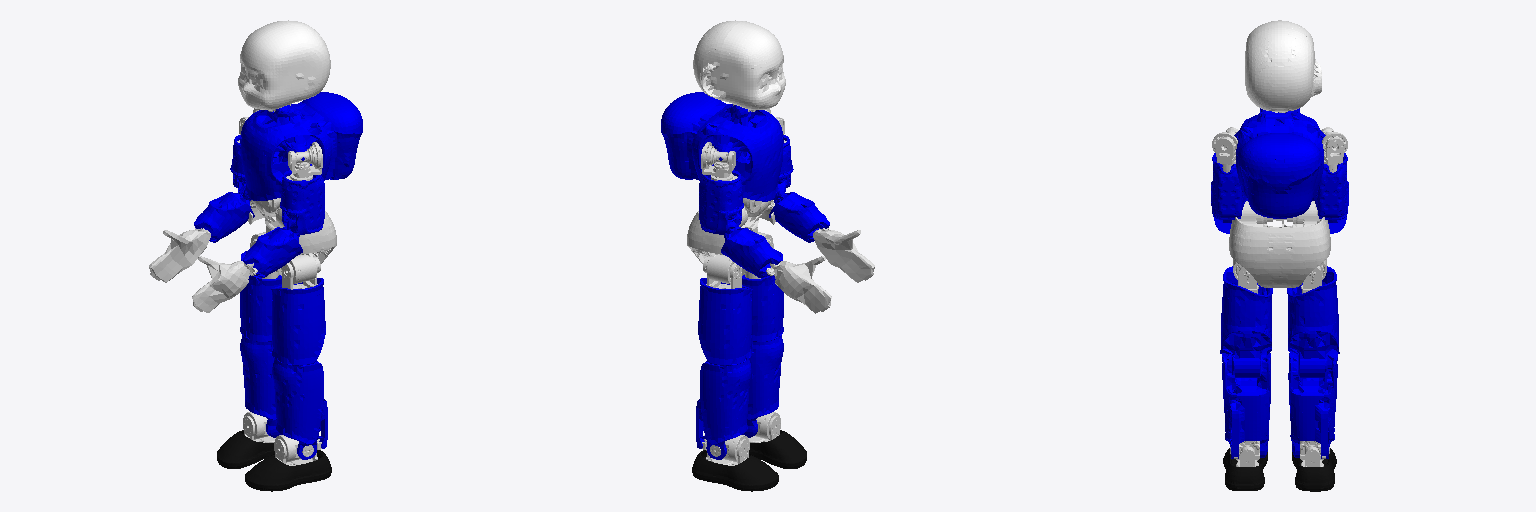
--- Render facts (derived) ---
Views: 3 orthographic renders of the robot side by side, from view 1: azimuth 30°, elevation 25°; view 2: azimuth 150°, elevation 25°; view 3: azimuth 270°, elevation 25°.
Robot: iCub — 54 links, 53 joints (32 revolute, 21 fixed); root link dummy; default pose: all joints at 0 but 2 set to mid-range because 0 is outside their limits (r_elbow = 1.06, l_elbow = 1.06).
Links seen in each view (by area): view 1: chest, head, l_lower_leg, l_upper_leg, r_lower_leg, l_upper_arm, l_foot, r_upper_leg, l_hand, r_hand, l_forearm, r_forearm (+4 smaller); view 2: chest, head, r_lower_leg, r_upper_leg, l_lower_leg, r_upper_arm, r_foot, l_upper_leg, r_hand, r_forearm, l_hand, l_forearm (+4 smaller); view 3: chest, root_link, head, l_upper_leg, r_upper_leg, l_lower_leg, r_lower_leg, r_upper_arm, l_upper_arm, r_foot, l_foot, l_shoulder_2 (+1 smaller).
Link boxes in pixels (x1,y1,x2,y2): chest: (240, 92, 362, 200); head: (238, 20, 330, 109); l_lower_leg: (272, 359, 327, 459); l_upper_leg: (271, 278, 325, 365); r_lower_leg: (240, 335, 281, 437); l_upper_arm: (280, 170, 324, 234); l_foot: (245, 450, 331, 491); r_upper_leg: (240, 251, 281, 341); l_hand: (192, 256, 249, 312); r_hand: (149, 230, 210, 282); l_forearm: (243, 227, 302, 277); r_forearm: (194, 192, 254, 242); chest: (661, 92, 783, 201); head: (693, 20, 785, 109); r_lower_leg: (696, 359, 751, 459); r_upper_leg: (698, 278, 752, 365); l_lower_leg: (742, 335, 783, 437); r_upper_arm: (699, 170, 743, 234); r_foot: (692, 450, 778, 491); l_upper_leg: (742, 250, 783, 341); r_hand: (774, 256, 831, 313); r_forearm: (721, 227, 780, 277); l_hand: (813, 229, 874, 282); l_forearm: (769, 192, 829, 242); chest: (1234, 108, 1325, 218); root_link: (1229, 201, 1330, 287); head: (1245, 20, 1321, 111); l_upper_leg: (1220, 266, 1272, 377); r_upper_leg: (1287, 266, 1339, 377); l_lower_leg: (1222, 352, 1270, 458); r_lower_leg: (1288, 352, 1337, 458); r_upper_arm: (1312, 153, 1348, 219); l_upper_arm: (1211, 153, 1247, 219); r_foot: (1292, 448, 1336, 491); l_foot: (1223, 448, 1267, 490); l_shoulder_2: (1212, 127, 1238, 164).
Size in the robot's own frame: 0.4797 by 0.2988 by 1.08 metres.
39 mesh visuals loaded from 39 distinct referenced files (39 OBJ).

The robot description file, URDF, robot "iCub":
<robot name="iCub">
  <link name="dummy">
      <inertial>
      <mass value="0"/>
      <inertia ixx="0.0" ixy="0.0" ixz="0.0" iyy="0.0" iyz="0.0" izz="0.0"/>
    </inertial>
  </link>
  <link name="root_link">
    <inertial>
      <origin xyz="0.02488209999999999 0.00010394699999999017 -0.04408060000000001" rpy="1.5707963267948961 0 -1.5707963267948961"/>
      <mass value="5.09143"/>
      <inertia ixx="0.0139679" ixy="-5.93488e-06" ixz="-1.55458e-05" iyy="0.0202112" iyz="-0.00170968" izz="0.0249124"/>
    </inertial>
    <visual>
      <origin xyz="-0.036399999999999995 0 0.032" rpy="1.5707963267948961 0 -1.5707963267948961"/>
      <geometry>
        <mesh filename="package://iCub/meshes/visual/sim_sea_2-5_root_link_prt-binary.obj" scale="0.001 0.001 0.001"/>
      </geometry>
      <material name="root_link_color">
        <color rgba="0.9 0.9 0.9 1"/>
      </material>
    </visual>
    <collision>
      <origin xyz="-0.036399999999999995 0 0.032" rpy="1.5707963267948961 0 -1.5707963267948961"/>
      <geometry>
        <mesh filename="package://iCub/meshes/visual/sim_sea_2-5_root_link_prt-binary.obj" scale="0.001 0.001 0.001"/>
      </geometry>
    </collision>
  </link>
  <joint name="dummy_joint" type="fixed">
    <parent link="dummy"/>
    <child link="root_link"/>
  </joint>
  <link name="r_hip_1">
    <inertial>
      <origin xyz="-0.0005145000000000149 -0.038075299999999986 -7.099999999998774e-05" rpy="1.5707963267948961 0 1.5707963267948961"/>
      <mass value="0.919978"/>
      <inertia ixx="0.000404268" ixy="-1.26852e-06" ixz="1.11055e-06" iyy="0.000574741" iyz="-7.69474e-07" izz="0.000580025"/>
    </inertial>
    <visual>
      <origin xyz="0.04285150000011213 0.025999999999999232 0.1519129999999679" rpy="1.5707963267948961 0 1.5707963267948961"/>
      <geometry>
        <mesh filename="package://iCub/meshes/visual/sim_sea_2-5_r_hip_1_prt-binary.obj" scale="0.001 0.001 0.001"/>
      </geometry>
      <material name="r_hip_1_color">
        <color rgba="0.9 0.9 0.9 1"/>
      </material>
    </visual>
    <collision>
      <origin xyz="0.04285150000011213 0.025999999999999232 0.1519129999999679" rpy="1.5707963267948961 0 1.5707963267948961"/>
      <geometry>
        <mesh filename="package://iCub/meshes/visual/sim_sea_2-5_r_hip_1_prt-binary.obj" scale="0.001 0.001 0.001"/>
      </geometry>
    </collision>
  </link>
  <joint name="r_hip_pitch" type="revolute">
    <origin xyz="0.006451499999999992 0.025999999999999968 -0.11991299999999999" rpy="0 0 -3.141592653589793"/>
    <axis xyz="-2.220446049250313e-16 -0.9999999999999998 0.0"/>
    <parent link="root_link"/>
    <child link="r_hip_1"/>
    <limit effort="55.5" lower="-0.7853981633974483" upper="2.3387411976724017" velocity="5.1"/>
    <dynamics damping="1.0" friction="0.0"/>
  </joint>
  <link name="r_hip_2">
    <inertial>
      <origin xyz="-0.0009315000000000018 8.09999999998312e-06 -0.04480899999999996" rpy="1.5707963267948961 0 1.5707963267948961"/>
      <mass value="0.413242"/>
      <inertia ixx="0.00046914" ixy="-4.76597e-08" ixz="7.12496e-08" iyy="0.000277108" iyz="3.3401e-06" izz="0.000303891"/>
    </inertial>
    <visual>
      <origin xyz="0.04285149980937101 0.07010000000000424 0.15191299999996632" rpy="1.5707963267948961 0 1.5707963267948961"/>
      <geometry>
        <mesh filename="package://iCub/meshes/visual/sim_sea_2-5_r_hip_2_prt-binary.obj" scale="0.001 0.001 0.001"/>
      </geometry>
      <material name="r_hip_2_color">
        <color rgba="0.9 0.9 0.9 1"/>
      </material>
    </visual>
    <collision>
      <origin xyz="0.04285149980937101 0.07010000000000424 0.15191299999996632" rpy="1.5707963267948961 0 1.5707963267948961"/>
      <geometry>
        <mesh filename="package://iCub/meshes/visual/sim_sea_2-5_r_hip_2_prt-binary.obj" scale="0.001 0.001 0.001"/>
      </geometry>
    </collision>
  </link>
  <joint name="r_hip_roll" type="revolute">
    <origin xyz="0 -0.04409999999999998 0" rpy="0 0 0"/>
    <axis xyz="-0.9999999999999998 0.0 -2.220446049250313e-16"/>
    <parent link="r_hip_1"/>
    <child link="r_hip_2"/>
    <limit effort="37.0" lower="-0.3490658503988659" upper="2.0943951023931953" velocity="7.64"/>
    <dynamics damping="1.0" friction="0.0"/>
  </joint>
  <link name="r_hip_3">
    <inertial>
      <origin xyz="-0.00012300000000000505 -0.0002822999999999992 0.008718000000000031" rpy="-1.5707963267948961 0 -1.5707963267948961"/>
      <mass value="0.126212"/>
      <inertia ixx="0.01" ixy="2.67901e-07" ixz="-4.41463e-09" iyy="0.01" iyz="3.32338e-08" izz="0.01"/>
    </inertial>
    <visual>
      <origin xyz="0.0437090152 -0.07009999189999992 -0.22621299999996644" rpy="-1.5707963267948961 0 -1.5707963267948961"/>
      <geometry>
        <mesh filename="package://iCub/meshes/visual/sim_sea_2-5_r_upper_thigh_prt-binary.obj" scale="0.001 0.001 0.001"/>
      </geometry>
      <material name="r_hip_3_color">
        <color rgba="0.0 0.0 1.0 1"/>
      </material>
    </visual>
    <collision>
      <origin xyz="0.0437090152 -0.07009999189999992 -0.22621299999996644" rpy="-1.5707963267948961 0 -1.5707963267948961"/>
      <geometry>
        <mesh filename="package://iCub/meshes/visual/sim_sea_2-5_r_upper_thigh_prt-binary.obj" scale="0.001 0.001 0.001"/>
      </geometry>
    </collision>
  </link>
  <joint name="r_leg_ft_sensor" type="fixed">
    <origin xyz="-0.0009362999999999941 1.3899999999969492e-05 -0.07429999999999995" rpy="3.141592653589793 0 0"/>
    <parent link="r_hip_2"/>
    <child link="r_hip_3"/>
    <dynamics damping="0.1"/>
  </joint>
  <link name="r_upper_leg">
    <inertial>
      <origin xyz="0.0033999999999999933 -2.9100000000018e-05 -0.078954" rpy="1.5707963267948961 0 1.5707963267948961"/>
      <mass value="1.8035"/>
      <inertia ixx="0.006477514229987116" ixy="0.0001295794295884975" ixz="5.482050947393938e-06" iyy="0.0014593786411035647" iyz="-0.0001366130868747447" izz="0.006467208238130081"/>
    </inertial>
    <visual>
      <origin xyz="0.0437090152 0.07009999190000003 0.24081299999999994" rpy="1.5707963267948961 0 1.5707963267948961"/>
      <geometry>
        <mesh filename="package://iCub/meshes/visual/sim_sea_2-5_r_thigh_prt-binary.obj" scale="0.001 0.001 0.001"/>
      </geometry>
      <material name="r_upper_leg_color">
        <color rgba="0.0 0.0 1.0 1"/>
      </material>
    </visual>
    <collision>
      <origin xyz="0.0437090152 0.07009999190000003 0.24081299999999994" rpy="1.5707963267948961 0 1.5707963267948961"/>
      <geometry>
        <mesh filename="package://iCub/meshes/visual/sim_sea_2-5_r_thigh_prt-binary.obj" scale="0.001 0.001 0.001"/>
      </geometry>
    </collision>
  </link>
  <joint name="r_hip_yaw" type="revolute">
    <origin xyz="0 0 0.014399999999999996" rpy="-3.141592653589793 0 0"/>
    <axis xyz="0.0 -2.220446049250313e-16 -0.9999999999999998"/>
    <parent link="r_hip_3"/>
    <child link="r_upper_leg"/>
    <limit effort="37.0" lower="-1.3962634015954636" upper="1.3962634015954636" velocity="7.64"/>
    <dynamics damping="1.0" friction="0.0"/>
  </joint>
  <link name="r_upper_leg_back_contact">
    <inertial>
      <mass value="0"/>
      <inertia ixx="0.0" ixy="0.0" ixz="0.0" iyy="0.0" iyz="0.0" izz="0.0"/>
    </inertial>
  </link>
  <joint name="r_upper_leg_back_contact_fixed_joint" type="fixed">
    <origin xyz="-0.051199800000000004 0 0.014599999999999946" rpy="0 1.5707963267948963 0"/>
    <parent link="r_upper_leg"/>
    <child link="r_upper_leg_back_contact"/>
    <dynamics damping="0.1"/>
  </joint>
  <link name="r_upper_leg_dh_frame">
    <inertial>
      <mass value="0"/>
      <inertia ixx="0.0" ixy="0.0" ixz="0.0" iyy="0.0" iyz="0.0" izz="0.0"/>
    </inertial>
  </link>
  <joint name="r_upper_leg_dh_frame_fixed_joint" type="fixed">
    <origin xyz="0 0 -0.14582499999999995" rpy="1.5707963267948966 0 0"/>
    <parent link="r_upper_leg"/>
    <child link="r_upper_leg_dh_frame"/>
    <dynamics damping="0.1"/>
  </joint>
  <link name="r_lower_leg">
    <inertial>
      <origin xyz="0.0012363999999999917 -0.003513100000000033 -0.08879400000000004" rpy="1.5707963267948961 0 1.5707963267948961"/>
      <mass value="1.472"/>
      <inertia ixx="0.00423993167477533" ixy="0.00022881454885381036" ixz="-5.556464594531433e-05" iyy="0.0015209504344685463" iyz="-0.0002641329792432387" izz="0.004573585842061655"/>
    </inertial>
    <visual>
      <origin xyz="0.0437090152 0.07009999200000007 0.38663799999999987" rpy="1.5707963267948961 0 1.5707963267948961"/>
      <geometry>
        <mesh filename="package://iCub/meshes/visual/sim_sea_2-5_r_shank_prt-binary.obj" scale="0.001 0.001 0.001"/>
      </geometry>
      <material name="r_lower_leg_color">
        <color rgba="0.0 0.0 1.0 1"/>
      </material>
    </visual>
    <collision>
      <origin xyz="0.0437090152 0.07009999200000007 0.38663799999999987" rpy="1.5707963267948961 0 1.5707963267948961"/>
      <geometry>
        <mesh filename="package://iCub/meshes/visual/sim_sea_2-5_r_shank_prt-binary.obj" scale="0.001 0.001 0.001"/>
      </geometry>
    </collision>
  </link>
  <joint name="r_knee" type="revolute">
    <origin xyz="0 0 -0.14582499999999995" rpy="0 0 0"/>
    <axis xyz="-2.220446049250313e-16 -0.9999999999999998 0.0"/>
    <parent link="r_upper_leg"/>
    <child link="r_lower_leg"/>
    <limit effort="37.0" lower="-2.1642082724729685" upper="0.06981317007977318" velocity="7.64"/>
    <dynamics damping="1.0" friction="0.0"/>
  </joint>
  <link name="r_ankle_1">
    <inertial>
      <origin xyz="0.01514359999999999 -0.000868600000000011 4.199999999998649e-05" rpy="1.5707963267948961 0 1.5707963267948961"/>
      <mass value="0.6803"/>
      <inertia ixx="0.0004046188489317631" ixy="7.498192869450776e-07" ixz="-3.013494676905822e-05" iyy="0.00044863365466369986" iyz="2.5726697409005395e-06" izz="0.00030823593913944066"/>
    </inertial>
    <visual>
      <origin xyz="0.0437090152 0.07009999200000011 0.5871379999999998" rpy="1.5707963267948961 0 1.5707963267948961"/>
      <geometry>
        <mesh filename="package://iCub/meshes/visual/sim_sea_2-5_r_ankle_prt-binary.obj" scale="0.001 0.001 0.001"/>
      </geometry>
      <material name="r_ankle_1_color">
        <color rgba="0.9 0.9 0.9 1"/>
      </material>
    </visual>
    <collision>
      <origin xyz="0.0437090152 0.07009999200000011 0.5871379999999998" rpy="1.5707963267948961 0 1.5707963267948961"/>
      <geometry>
        <mesh filename="package://iCub/meshes/visual/sim_sea_2-5_r_ankle_prt-binary.obj" scale="0.001 0.001 0.001"/>
      </geometry>
    </collision>
  </link>
  <joint name="r_ankle_pitch" type="revolute">
    <origin xyz="0 0 -0.20049999999999996" rpy="0 0 0"/>
    <axis xyz="2.220446049250313e-16 0.9999999999999998 0.0"/>
    <parent link="r_lower_leg"/>
    <child link="r_ankle_1"/>
    <limit effort="37.0" lower="-0.6108652381980153" upper="0.6108652381980153" velocity="7.64"/>
    <dynamics damping="1.0" friction="0.0"/>
  </joint>
  <link name="r_ankle_2">
    <inertial>
      <origin xyz="0.0011445999999999956 3.599999999992498e-06 -0.03852" rpy="1.5707963267948961 0 1.5707963267948961"/>
      <mass value="0.265122"/>
      <inertia ixx="0.01" ixy="-4.74606e-08" ixz="4.94571e-08" iyy="0.01" iyz="-4.29975e-06" izz="0.01"/>
    </inertial>
    <visual>
      <origin xyz="0.043787799618642 0.07008610019070811 0.5871379999999998" rpy="1.5707963267948961 0 1.5707963267948961"/>
      <geometry>
        <mesh filename="package://iCub/meshes/visual/sim_sea_2-5_r_foot_prt-binary.obj" scale="0.001 0.001 0.001"/>
      </geometry>
      <material name="r_ankle_2_color">
        <color rgba="0.9 0.9 0.9 1"/>
      </material>
    </visual>
    <collision>
      <origin xyz="0.043787799618642 0.07008610019070811 0.5871379999999998" rpy="1.5707963267948961 0 1.5707963267948961"/>
      <geometry>
        <mesh filename="package://iCub/meshes/visual/sim_sea_2-5_r_foot_prt-binary.obj" scale="0.001 0.001 0.001"/>
      </geometry>
    </collision>
  </link>
  <joint name="r_ankle_roll" type="revolute">
    <origin xyz="0 0 0" rpy="0 0 0"/>
    <axis xyz="-0.9999999999999998 0.0 -2.220446049250313e-16"/>
    <parent link="r_ankle_1"/>
    <child link="r_ankle_2"/>
    <limit effort="37.0" lower="-0.4363323129985824" upper="0.4363323129985824" velocity="7.64"/>
    <dynamics damping="1.0" friction="0.0"/>
  </joint>
  <link name="r_foot">
    <inertial>
      <origin xyz="0.033600099999999994 0.005371899999999999 -0.001146999999999898" rpy="-1.5707963267948961 0 -1.5707963267948961"/>
      <mass value="0.382866"/>
      <inertia ixx="0.00120946" ixy="3.74585e-07" ixz="-5.78759e-05" iyy="0.00141439" iyz="-7.80325e-06" izz="0.000273599"/>
    </inertial>
    <visual>
      <origin xyz="0.04720901500000001 -0.07009999199999985 -0.6474380002860779" rpy="-1.5707963267948961 0 -1.5707963267948961"/>
      <geometry>
        <mesh filename="package://iCub/meshes/visual/sim_sea_2-5_r_sole_prt-binary.obj" scale="0.001 0.001 0.001"/>
      </geometry>
      <material name="r_foot_color">
        <color rgba="0.1 0.1 0.1 1"/>
      </material>
    </visual>
    <collision>
      <origin xyz="0.03 0.005 0.014" rpy="0.0 0.0 0.0"/>
      <geometry>
        <mesh filename="package://iCub/meshes/visual/r_foot.obj" scale="1 1 1"/>
      </geometry>
    </collision>
  </link>
  <joint name="r_foot_ft_sensor" type="fixed">
    <origin xyz="-0.003500000000000003 0 -0.0605" rpy="3.141592653589793 0 0"/>
    <parent link="r_ankle_2"/>
    <child link="r_foot"/>
    <dynamics damping="0.1"/>
  </joint>
  <link name="r_sole">
    <inertial>
      <mass value="0"/>
      <inertia ixx="0.0" ixy="0.0" ixz="0.0" iyy="0.0" iyz="0.0" izz="0.0"/>
    </inertial>
  </link>
  <joint name="r_sole_fixed_joint" type="fixed">
    <origin xyz="0.003500000000000003 0 0.0040000000000000036" rpy="-3.141592653589793 0 0"/>
    <parent link="r_foot"/>
    <child link="r_sole"/>
    <dynamics damping="0.1"/>
  </joint>
  <link name="torso_1">
    <inertial>
      <origin xyz="0.027092135899999998 0.02914798 -0.00043979999999999714" rpy="0 0 0"/>
      <mass value="0.67144"/>
      <inertia ixx="0.00040911" ixy="-1.04522e-06" ixz="-1.02516e-06" iyy="0.000384141" iyz="6.50708e-06" izz="0.000299445"/>
    </inertial>
    <visual>
      <origin xyz="0.027046299809264998 0.03199999999999968 0.036400000000000286" rpy="0 0 0"/>
      <geometry>
        <mesh filename="package://iCub/meshes/visual/sim_sea_2-5_lap_belt_1_prt-binary.obj" scale="0.001 0.001 0.001"/>
      </geometry>
      <material name="torso_1_color">
        <color rgba="0.9 0.9 0.9 1"/>
      </material>
    </visual>
    <collision>
      <origin xyz="0.027046299809264998 0.03199999999999968 0.036400000000000286" rpy="0 0 0"/>
      <geometry>
        <mesh filename="package://iCub/meshes/visual/sim_sea_2-5_lap_belt_1_prt-binary.obj" scale="0.001 0.001 0.001"/>
      </geometry>
    </collision>
  </link>
  <joint name="torso_pitch" type="revolute">
    <origin xyz="0 0.027046299999999992 0" rpy="1.5707963267948961 0 -1.5707963267948961"/>
    <axis xyz="1.0 0.0 0.0"/>
    <parent link="root_link"/>
    <child link="torso_1"/>
    <limit effort="50000" lower="-0.3490658503988659" upper="1.2217304763960306" velocity="50000"/>
    <dynamics damping="1.0" friction="0.0"/>
  </joint>
  <link name="torso_2">
    <inertial>
      <origin xyz="-0.00011350780926499999 0.036152500000000004 0.05709630000000001" rpy="0 0 0"/>
      <mass value="0.425685"/>
      <inertia ixx="0.000829234" ixy="2.37006e-08" ixz="9.25231e-08" iyy="0.000436517" iyz="-1.74814e-07" izz="0.000604802"/>
    </inertial>
    <visual>
      <origin xyz="0 0.1433 0.03865310000000001" rpy="0 0 0"/>
      <geometry>
        <mesh filename="package://iCub/meshes/visual/sim_sea_2-5_lap_belt_2_prt-binary.obj" scale="0.001 0.001 0.001"/>
      </geometry>
      <material name="torso_2_color">
        <color rgba="0.9 0.9 0.9 1"/>
      </material>
    </visual>
    <collision>
      <origin xyz="0 0.1433 0.03865310000000001" rpy="0 0 0"/>
      <geometry>
        <mesh filename="package://iCub/meshes/visual/sim_sea_2-5_lap_belt_2_prt-binary.obj" scale="0.001 0.001 0.001"/>
      </geometry>
    </collision>
  </link>
  <joint name="torso_roll" type="revolute">
    <origin xyz="0.027046299809264998 0.032 -0.05734460000000001" rpy="0 0 0"/>
    <axis xyz="0.0 0.0 -1.0"/>
    <parent link="torso_1"/>
    <child link="torso_2"/>
    <limit effort="50000" lower="-0.5235987755982988" upper="0.5235987755982988" velocity="50000"/>
    <dynamics damping="1.0" friction="0.0"/>
  </joint>
  <link name="chest">
    <inertial>
      <origin xyz="0.000188619190735 0.07309099999999999 -0.047238100000000005" rpy="0 0 0"/>
      <mass value="7.638"/>
      <inertia ixx="0.043032487861801666" ixy="2.9107538880437883e-05" ixz="0.00018198522994852988" iyy="0.04408357255482159" iyz="-0.0004291064091076428" izz="0.026056324991143805"/>
    </inertial>
    <visual>
      <origin xyz="0 0.09280000000000001 -0.024189000000000002" rpy="0 0 0"/>
      <geometry>
        <mesh filename="package://iCub/meshes/visual/sim_sea_2-5_chest_bb_prt-binary.obj" scale="0.001 0.001 0.001"/>
      </geometry>
      <material name="chest_color">
        <color rgba="0.0 0.0 1.0 1"/>
      </material>
    </visual>
    <collision>
      <origin xyz="0 0.09280000000000001 -0.024189000000000002" rpy="0 0 0"/>
      <geometry>
        <mesh filename="package://iCub/meshes/visual/sim_sea_2-5_chest_bb_prt-binary.obj" scale="0.001 0.001 0.001"/>
      </geometry>
    </collision>
  </link>
  <joint name="torso_yaw" type="revolute">
    <origin xyz="0 0.05 0.06284210000000001" rpy="0 0 0"/>
    <axis xyz="0.0 -1.0 0.0"/>
    <parent link="torso_2"/>
    <child link="chest"/>
    <limit effort="50000" lower="-0.8726646259971648" upper="0.8726646259971648" velocity="50000"/>
    <dynamics damping="1.0" friction="0.0"/>
  </joint>
  <link name="neck_1">
    <inertial>
      <origin xyz="0.0143705608 0.006567000000000017 -0.006384200000000003" rpy="0 0 0"/>
      <mass value="0.125793"/>
      <inertia ixx="0.01" ixy="8.09156e-08" ixz="-3.74998e-08" iyy="0.01" iyz="9.39717e-06" izz="0.01"/>
    </inertial>
    <visual>
      <origin xyz="0.014299999809265 -0.07999699999999998 -0.029500800000000004" rpy="0 0 0"/>
      <geometry>
        <mesh filename="package://iCub/meshes/visual/sim_sea_2-5_neck_1_prt-binary.obj" scale="0.001 0.001 0.001"/>
      </geometry>
      <material name="neck_1_color">
        <color rgba="0.9 0.9 0.9 1"/>
      </material>
    </visual>
    <collision>
      <origin xyz="0.014299999809265 -0.07999699999999998 -0.029500800000000004" rpy="0 0 0"/>
      <geometry>
        <mesh filename="package://iCub/meshes/visual/sim_sea_2-5_neck_1_prt-binary.obj" scale="0.001 0.001 0.001"/>
      </geometry>
    </collision>
  </link>
  <joint name="neck_pitch" type="revolute">
    <origin xyz="-0.014299999809265 0.17279699999999998 0.0053118" rpy="0 0 0"/>
    <axis xyz="-1.0 0.0 0.0"/>
    <parent link="chest"/>
    <child link="neck_1"/>
    <limit effort="50000" lower="-0.6981317007977318" upper="0.3839724354387525" velocity="50000"/>
    <dynamics damping="1.0" friction="0.0"/>
  </joint>
  <link name="neck_2">
    <inertial>
      <origin xyz="-8.8573009265e-05 0.03522499999999998 -0.01954527" rpy="0 0 0"/>
      <mass value="0.177087"/>
      <inertia ixx="0.01" ixy="-5.25591e-07" ixz="4.68307e-07" iyy="0.01" iyz="9.81476e-06" izz="0.01"/>
    </inertial>
    <visual>
      <origin xyz="0 -0.089497 -0.05030077" rpy="0 0 0"/>
      <geometry>
        <mesh filename="package://iCub/meshes/visual/sim_sea_2-5_neck_2_prt-binary.obj" scale="0.001 0.001 0.001"/>
      </geometry>
      <material name="neck_2_color">
        <color rgba="0.9 0.9 0.9 1"/>
      </material>
    </visual>
    <collision>
      <origin xyz="0 -0.089497 -0.05030077" rpy="0 0 0"/>
      <geometry>
        <mesh filename="package://iCub/meshes/visual/sim_sea_2-5_neck_2_prt-binary.obj" scale="0.001 0.001 0.001"/>
      </geometry>
    </collision>
  </link>
  <joint name="neck_roll" type="revolute">
    <origin xyz="0.014299999809265 0.009500000000000008 0.020799969999999997" rpy="0 0 0"/>
    <axis xyz="0.0 0.0 1.0"/>
    <parent link="neck_1"/>
    <child link="neck_2"/>
    <limit effort="50000" lower="-0.3490658503988659" upper="0.3490658503988659" velocity="50000"/>
    <dynamics damping="1.0" friction="0.0"/>
  </joint>
  <link name="head">
    <inertial>
      <origin xyz="-0.000574157809265 0.11351100000000003 -0.007539199999999999" rpy="0 0 0"/>
      <mass value="1.50691"/>
      <inertia ixx="0.00680478" ixy="-1.60267e-05" ixz="7.28166e-05" iyy="0.00634736" iyz="0.000292091" izz="0.00478116"/>
    </inertial>
    <visual>
      <origin xyz="0 -0.06715299999999999 -0.029500800000000004" rpy="0 0 0"/>
      <geometry>
        <mesh filename="package://iCub/meshes/visual/sim_sea_2-5_head_prt-binary.obj" scale="0.001 0.001 0.001"/>
      </geometry>
      <material name="head_color">
        <color rgba="1 1 1 1"/>
      </material>
    </visual>
    <collision>
      <origin xyz="0 -0.06715299999999999 -0.029500800000000004" rpy="0 0 0"/>
      <geometry>
        <mesh filename="package://iCub/meshes/visual/sim_sea_2-5_head_prt-binary.obj" scale="0.001 0.001 0.001"/>
      </geometry>
    </collision>
  </link>
  <joint name="neck_yaw" type="revolute">
    <origin xyz="0 -0.022344000000000003 -0.020799969999999997" rpy="0 0 0"/>
    <axis xyz="0.0 1.0 0.0"/>
    <parent link="neck_2"/>
    <child link="head"/>
    <limit effort="50000" lower="-0.8726646259971648" upper="0.8726646259971648" velocity="50000"/>
    <dynamics damping="1.0" friction="0.0"/>
  </joint>
  <link name="imu_frame">
    <inertial>
      <mass value="0"/>
      <inertia ixx="0.0" ixy="0.0" ixz="0.0" iyy="0.0" iyz="0.0" izz="0.0"/>
    </inertial>
  </link>
  <joint name="imu_frame_fixed_joint" type="fixed">
    <origin xyz="0.023453700190734995 0.20544400000000002 -0.023077900000000023" rpy="1.5707963267948997 0 0"/>
    <parent link="head"/>
    <child link="imu_frame"/>
    <dynamics damping="0.1"/>
  </joint>
  <link name="r_shoulder_1">
    <inertial>
      <origin xyz="-0.012265601413295815 3.200000000000425e-05 -0.003210642904490607" rpy="0 0 0"/>
      <mass value="0.114862"/>
      <inertia ixx="0.01" ixy="-1.65173e-08" ixz="-3.55626e-06" iyy="0.01" iyz="-6.13337e-08" izz="0.01"/>
    </inertial>
    <visual>
      <origin xyz="0.09900792530759175 0 -0.026529248755802246" rpy="0 0 0"/>
      <geometry>
        <mesh filename="package://iCub/meshes/visual/sim_sea_2-5_r_shoulder_1_prt-binary.obj" scale="0.001 0.001 0.001"/>
      </geometry>
      <material name="r_shoulder_1_color">
        <color rgba="0.9 0.9 0.9 1"/>
      </material>
    </visual>
    <collision>
      <origin xyz="0.09900792530759175 0 -0.026529248755802246" rpy="0 0 0"/>
      <geometry>
        <mesh filename="package://iCub/meshes/visual/sim_sea_2-5_r_shoulder_1_prt-binary.obj" scale="0.001 0.001 0.001"/>
      </geometry>
    </collision>
  </link>
  <joint name="r_shoulder_pitch" type="revolute">
    <origin xyz="-0.12001599980926501 0.09280000000000001 0.007969299999999999" rpy="0 -0.523598883792035 3.141592653589793"/>
    <axis xyz="-0.965925926173269 0.0 0.25881927552505174"/>
    <parent link="chest"/>
    <child link="r_shoulder_1"/>
    <limit effort="50000" lower="-1.6667894356545847" upper="0.17453292519943295" velocity="50000"/>
    <dynamics damping="1.0" friction="0.0"/>
  </joint>
  <link name="r_shoulder_2">
    <inertial>
      <origin xyz="-0.02141417094380993 0.0002717252725513569 -0.019440234453461283" rpy="0 0 0"/>
      <mass value="0.238162"/>
      <inertia ixx="0.01" ixy="-1.12091e-07" ixz="1.02574e-05" iyy="0.01" iyz="1.19785e-06" izz="0.01"/>
    </inertial>
    <visual>
      <origin xyz="0.10658780856753214 2.3191471536232466e-07 -0.04073921211753291" rpy="0 0 0"/>
      <geometry>
        <mesh filename="package://iCub/meshes/visual/sim_sea_2-5_r_shoulder_2_prt-binary.obj" scale="0.001 0.001 0.001"/>
      </geometry>
      <material name="r_shoulder_2_color">
        <color rgba="0.9 0.9 0.9 1"/>
      </material>
    </visual>
    <collision>
      <origin xyz="0.10658780856753214 2.3191471536232466e-07 -0.04073921211753291" rpy="0 0 0"/>
      <geometry>
        <mesh filename="package://iCub/meshes/visual/sim_sea_2-5_r_shoulder_2_prt-binary.obj" scale="0.001 0.001 0.001"/>
      </geometry>
    </collision>
  </link>
  <joint name="r_shoulder_roll" type="revolute">
    <origin xyz="-0.007580465732273667 0 0.014210246363868029" rpy="-0.2705976115829964 -0.252680154648383 -1.5015568003498747"/>
    <axis xyz="-0.258819 9.361836320172563e-18 -0.965926"/>
    <parent link="r_shoulder_1"/>
    <child link="r_shoulder_2"/>
    <limit effort="50000" lower="0.0" upper="2.8064894372068823" velocity="50000"/>
    <dynamics damping="1.0" friction="0.0"/>
  </joint>
  <link name="r_shoulder_3">
    <inertial>
      <origin xyz="-0.026762076687111974 -6.999999999979245e-06 0.014699920771321831" rpy="0 0 0"/>
      <mass value="0.35913"/>
      <inertia ixx="0.01" ixy="3.60361e-07" ixz="4.94445e-05" iyy="0.01" iyz="2.65919e-07" izz="0.01"/>
    </inertial>
    <visual>
      <origin xyz="0.13193387916408805 0 -0.03535156676465449" rpy="0 0 0"/>
      <geometry>
        <mesh filename="package://iCub/meshes/visual/sim_sea_2-5_r_upper_arm_prt-binary.obj" scale="0.001 0.001 0.001"/>
      </geometry>
      <material name="r_shoulder_3_color">
        <color rgba="0.9 0.9 0.9 1"/>
      </material>
    </visual>
    <collision>
      <origin xyz="0.13193387916408805 0 -0.03535156676465449" rpy="0 0 0"/>
      <geometry>
        <mesh filename="package://iCub/meshes/visual/sim_sea_2-5_r_upper_arm_prt-binary.obj" scale="0.001 0.001 0.001"/>
      </geometry>
    </collision>
  </link>
  <joint name="r_shoulder_yaw" type="revolute">
    <origin xyz="-0.02534607132315006 2.3275042732029405e-07 -0.005387648064565612" rpy="-0.25268954617505757 0.008518618321396991 0.06703988914196844"/>
    <axis xyz="0.9659258438815126 -2.220446049250313e-16 -0.2588189794466167"/>
    <parent link="r_shoulder_2"/>
    <child link="r_shoulder_3"/>
    <limit effort="50000" lower="-0.6457718232379019" upper="1.3962634015954636" velocity="50000"/>
    <dynamics damping="1.0" friction="0.0"/>
  </joint>
  <link name="r_upper_arm">
    <inertial>
      <origin xyz="-0.006087 0.0001260000000000011 0.029312099999999987" rpy="0 1.30899700696774 0"/>
      <mass value="0.745104"/>
      <inertia ixx="0.000509527" ixy="1.19292e-06" ixz="-1.17426e-05" iyy="0.000668487" iyz="1.13363e-06" izz="0.000599254"/>
    </inertial>
    <visual>
      <origin xyz="-0.014999999999999994 0 -0.19329999999999997" rpy="0 1.30899700696774 0"/>
      <geometry>
        <mesh filename="package://iCub/meshes/visual/sim_sea_2-5_r_elbow_prt-binary.obj" scale="0.001 0.001 0.001"/>
      </geometry>
      <material name="r_upper_arm_color">
        <color rgba="0.0 0.0 1.0 1"/>
      </material>
    </visual>
    <collision>
      <origin xyz="-0.014999999999999994 0 -0.19329999999999997" rpy="0 1.30899700696774 0"/>
      <geometry>
        <mesh filename="package://iCub/meshes/visual/sim_sea_2-5_r_elbow_prt-binary.obj" scale="0.001 0.001 0.001"/>
      </geometry>
    </collision>
  </link>
  <joint name="r_arm_ft_sensor" type="fixed">
    <origin xyz="-0.05089730176650909 0 0.029167029620599215" rpy="0 -1.3089970069677397 0"/>
    <parent link="r_shoulder_3"/>
    <child link="r_upper_arm"/>
    <dynamics damping="0.1"/>
  </joint>
  <link name="r_elbow_1">
    <inertial>
      <origin xyz="-0.006739129328428656 0.018801899999999996 -0.004657692361536201" rpy="0 0 0"/>
      <mass value="0.267903"/>
      <inertia ixx="0.01" ixy="7.36974e-06" ixz="-1.04536e-05" iyy="0.01" iyz="3.92498e-06" izz="0.01"/>
    </inertial>
    <visual>
      <origin xyz="0.25939046331664584 0.022499899999999948 -0.08503258869619254" rpy="0 0 0"/>
      <geometry>
        <mesh filename="package://iCub/meshes/visual/sim_sea_2-5_r_elbow_prosup_prt-binary.obj" scale="0.001 0.001 0.001"/>
      </geometry>
      <material name="r_elbow_1_color">
        <color rgba="0.0 0.0 1.0 1"/>
      </material>
    </visual>
    <collision>
      <origin xyz="0.25939046331664584 0.022499899999999948 -0.08503258869619254" rpy="0 0 0"/>
      <geometry>
        <mesh filename="package://iCub/meshes/visual/sim_sea_2-5_r_elbow_prosup_prt-binary.obj" scale="0.001 0.001 0.001"/>
      </geometry>
    </collision>
  </link>
  <joint name="r_elbow" type="revolute">
    <origin xyz="0 -0.022499900000000003 0.07925999999999998" rpy="0 1.3089970069677397 0"/>
    <axis xyz="2.220446049250313e-16 1.0000000000000002 0.0"/>
    <parent link="r_upper_arm"/>
    <child link="r_elbow_1"/>
    <limit effort="50000" lower="0.2617993877991494" upper="1.8500490071139892" velocity="50000"/>
    <dynamics damping="1.0" friction="0.0"/>
  </joint>
  <link name="r_forearm">
    <inertial>
      <origin xyz="-0.04043911338861204 -0.00032799999999999496 0.005327334483865201" rpy="0 0 0"/>
      <mass value="0.6347"/>
      <inertia ixx="0.000370044" ixy="-1.65419e-06" ixz="0.00010538" iyy="0.000672279" iyz="1.1456e-06" izz="0.000553637"/>
    </inertial>
    <visual>
      <origin xyz="0.29688696737542175 0 -0.07955060152271212" rpy="0 0 0"/>
      <geometry>
        <mesh filename="package://iCub/meshes/visual/sim_sea_2-5_r_forearm_prt-binary.obj" scale="0.001 0.001 0.001"/>
      </geometry>
      <material name="r_forearm_color">
        <color rgba="0.0 0.0 1.0 1"/>
      </material>
    </visual>
    <collision>
      <origin xyz="0.29688696737542175 0 -0.07955060152271212" rpy="0 0 0"/>
      <geometry>
        <mesh filename="package://iCub/meshes/visual/sim_sea_2-5_r_forearm_prt-binary.obj" scale="0.001 0.001 0.001"/>
      </geometry>
    </collision>
  </link>
  <joint name="r_wrist_prosup" type="revolute">
    <origin xyz="-0.0384624299026574 0.022499900000000017 -0.0052231681940338075" rpy="0 0 0"/>
    <axis xyz="0.9659258438815126 -2.220446049250313e-16 -0.2588189794466167"/>
    <parent link="r_elbow_1"/>
    <child link="r_forearm"/>
    <limit effort="50000" lower="-1.0471975511965976" upper="1.0471975511965976" velocity="50000"/>
    <dynamics damping="1.0" friction="0.0"/>
  </joint>
  <link name="r_forearm_dh_frame">
    <inertial>
      <mass value="0"/>
      <inertia ixx="0.0" ixy="0.0" ixz="0.0" iyy="0.0" iyz="0.0" izz="0.0"/>
    </inertial>
  </link>
  <joint name="r_forearm_dh_frame_fixed_joint" type="fixed">
    <origin xyz="-0.1028711023733811 7.000000000020878e-06 0.027564221311064674" rpy="-0.2617993198271565 0 -1.570796326794897"/>
    <parent link="r_forearm"/>
    <child link="r_forearm_dh_frame"/>
    <dynamics damping="0.1"/>
  </joint>
  <link name="r_wrist_1">
    <inertial>
      <origin xyz="0.0009861019555474082 -0.0011759999999999826 0.004101327367239241" rpy="0 0 0"/>
      <mass value="0.0362615"/>
      <inertia ixx="0.01" ixy="-3.10462e-08" ixz="-9.44554e-07" iyy="0.01" iyz="-1.59685e-07" izz="0.01"/>
    </inertial>
    <visual>
      <origin xyz="0.40039217624844703 -7.0000000000763896e-06 -0.1047483045162671" rpy="0 0 0"/>
      <geometry>
        <mesh filename="package://iCub/meshes/visual/sim_sea_2-5_r_wrist_pitch_prt-binary.obj" scale="0.001 0.001 0.001"/>
      </geometry>
      <material name="r_wrist_1_color">
        <color rgba="0.9 0.9 0.9 1"/>
      </material>
    </visual>
    <collision>
      <origin xyz="0.40039217624844703 -7.0000000000763896e-06 -0.1047483045162671" rpy="0 0 0"/>
      <geometry>
        <mesh filename="package://iCub/meshes/visual/sim_sea_2-5_r_wrist_pitch_prt-binary.obj" scale="0.001 0.001 0.001"/>
      </geometry>
    </collision>
  </link>
  <joint name="r_wrist_pitch" type="revolute">
    <origin xyz="-0.1035052088730253 7.000000000020878e-06 0.02519770299355497" rpy="0 0 0"/>
    <axis xyz="0.2588189794466167 0.0 0.9659258438815124"/>
    <parent link="r_forearm"/>
    <child link="r_wrist_1"/>
    <limit effort="50000" lower="-1.3962634015954636" upper="0.4363323129985824" velocity="50000"/>
    <dynamics damping="1.0" friction="0.0"/>
  </joint>
  <link name="r_hand">
    <inertial>
      <origin xyz="-0.0646681637170268 0.005600200000000041 0.022681294091780244" rpy="0 0 0"/>
      <mass value="0.248289"/>
      <inertia ixx="0.01" ixy="-2.3536e-06" ixz="3.61526e-05" iyy="0.01" iyz="2.07146e-05" izz="0.01"/>
    </inertial>
    <visual>
      <origin xyz="0.39975806974880285 0.019492899999999924 -0.1071148228337768" rpy="0 0 0"/>
      <geometry>
        <mesh filename="package://iCub/meshes/visual/sim_sea_2-5_r_hand_prt-binary.obj" scale="0.001 0.001 0.001"/>
      </geometry>
      <material name="r_hand_color">
        <color rgba="0.9 0.9 0.9 1"/>
      </material>
    </visual>
    <collision>
      <origin xyz="0.39975806974880285 0.019492899999999924 -0.1071148228337768" rpy="0 0 0"/>
      <geometry>
        <mesh filename="package://iCub/meshes/visual/sim_sea_2-5_r_hand_prt-binary.obj" scale="0.001 0.001 0.001"/>
      </geometry>
    </collision>
  </link>
  <joint name="r_wrist_yaw" type="revolute">
    <origin xyz="0.0006341064996442103 -0.0194999 0.002366518317509704" rpy="0 0 0"/>
    <axis xyz="-2.220446049250313e-16 -1.0000000000000002 0.0"/>
    <parent link="r_wrist_1"/>
    <child link="r_hand"/>
    <limit effort="50000" lower="-0.3490658503988659" upper="0.4363323129985824" velocity="50000"/>
    <dynamics damping="1.0" friction="0.0"/>
  </joint>
  <link name="r_hand_dh_frame">
    <inertial>
      <mass value="0"/>
      <inertia ixx="0.0" ixy="0.0" ixz="0.0" iyy="0.0" iyz="0.0" izz="0.0"/>
    </inertial>
  </link>
  <joint name="r_hand_dh_frame_fixed_joint" type="fixed">
    <origin xyz="-0.05765429784284365 -0.005556799999999987 0.013693832308330513" rpy="-1.5707963267948963 -0.2617993198271562 3.141592653589793"/>
    <parent link="r_hand"/>
    <child link="r_hand_dh_frame"/>
    <dynamics damping="0.1"/>
  </joint>
  <link name="l_shoulder_1">
    <inertial>
      <origin xyz="-0.008985000000000007 -3.300000000000525e-05 -0.0088998" rpy="0 0 0"/>
      <mass value="0.114882"/>
      <inertia ixx="0.01" ixy="-1.77064e-08" ixz="3.55951e-06" iyy="0.01" iyz="6.57597e-08" izz="0.01"/>
    </inertial>
    <visual>
      <origin xyz="-0.12025748200000001 0 -0.032223" rpy="0 0 0"/>
      <geometry>
        <mesh filename="package://iCub/meshes/visual/sim_sea_2-5_l_shoulder_1_prt-binary.obj" scale="0.001 0.001 0.001"/>
      </geometry>
      <material name="l_shoulder_1_color">
        <color rgba="0.9 0.9 0.9 1"/>
      </material>
    </visual>
    <collision>
      <origin xyz="-0.12025748200000001 0 -0.032223" rpy="0 0 0"/>
      <geometry>
        <mesh filename="package://iCub/meshes/visual/sim_sea_2-5_l_shoulder_1_prt-binary.obj" scale="0.001 0.001 0.001"/>
      </geometry>
    </collision>
  </link>
  <joint name="l_shoulder_pitch" type="revolute">
    <origin xyz="0.12001600019073501 0.09280000000000001 0.007969299999999999" rpy="0 0 0"/>
    <axis xyz="0.965926 0.0 0.258819"/>
    <parent link="chest"/>
    <child link="l_shoulder_1"/>
    <limit effort="50000" lower="-1.6667894356545847" upper="0.17453292519943295" velocity="50000"/>
    <dynamics damping="1.0" friction="0.0"/>
  </joint>
  <link name="l_shoulder_2">
    <inertial>
      <origin xyz="0.02147459512724749 0.0002689578996872277 -0.019410736153453706" rpy="0 0 0"/>
      <mass value="0.238162"/>
      <inertia ixx="0.01" ixy="1.19701e-07" ixz="-1.29687e-05" iyy="0.01" iyz="1.20112e-06" izz="0.01"/>
    </inertial>
    <visual>
      <origin xyz="-0.10658669158059955 1.1080093428872395e-07 -0.04074338077098992" rpy="0 0 0"/>
      <geometry>
        <mesh filename="package://iCub/meshes/visual/sim_sea_2-5_l_shoulder_2_prt-binary.obj" scale="0.001 0.001 0.001"/>
      </geometry>
      <material name="l_shoulder_2_color">
        <color rgba="0.9 0.9 0.9 1"/>
      </material>
    </visual>
    <collision>
      <origin xyz="-0.10658669158059955 1.1080093428872395e-07 -0.04074338077098992" rpy="0 0 0"/>
      <geometry>
        <mesh filename="package://iCub/meshes/visual/sim_sea_2-5_l_shoulder_2_prt-binary.obj" scale="0.001 0.001 0.001"/>
      </geometry>
    </collision>
  </link>
  <joint name="l_shoulder_roll" type="revolute">
    <origin xyz="-0.013671000000000016 0 0.0085204" rpy="0.2705973179159597 0.2526801775423606 -1.5015568855866182"/>
    <axis xyz="-0.258819 -9.361836320172563e-18 0.965926"/>
    <parent link="l_shoulder_1"/>
    <child link="l_shoulder_2"/>
    <limit effort="50000" lower="0.0" upper="2.8064894372068823" velocity="50000"/>
    <dynamics damping="1.0" friction="0.0"/>
  </joint>
  <link name="l_shoulder_3">
    <inertial>
      <origin xyz="0.026798412222026474 -1.5999999999988246e-05 0.014695680617730612" rpy="0 0 0"/>
      <mass value="0.35913"/>
      <inertia ixx="0.01" ixy="-2.22441e-07" ixz="-4.95846e-05" iyy="0.01" iyz="1.07538e-07" izz="0.01"/>
    </inertial>
    <visual>
      <origin xyz="-0.1319010376853961 0 -0.03534276691935331" rpy="0 0 0"/>
      <geometry>
        <mesh filename="package://iCub/meshes/visual/sim_sea_2-5_l_upper_arm_prt-binary.obj" scale="0.001 0.001 0.001"/>
      </geometry>
      <material name="l_shoulder_3_color">
        <color rgba="0.9 0.9 0.9 1"/>
      </material>
    </visual>
    <collision>
      <origin xyz="-0.1319010376853961 0 -0.03534276691935331" rpy="0 0 0"/>
      <geometry>
        <mesh filename="package://iCub/meshes/visual/sim_sea_2-5_l_upper_arm_prt-binary.obj" scale="0.001 0.001 0.001"/>
      </geometry>
    </collision>
  </link>
  <joint name="l_shoulder_yaw" type="revolute">
    <origin xyz="0.025314346831209825 1.116364382186541e-07 -0.0054006165626487995" rpy="-0.25268954617505757 -0.008518618321396991 -0.06703988914196844"/>
    <axis xyz="0.9659258438815126 2.220446049250313e-16 0.2588189794466167"/>
    <parent link="l_shoulder_2"/>
    <child link="l_shoulder_3"/>
    <limit effort="50000" lower="-0.6457718232379019" upper="1.3962634015954636" velocity="50000"/>
    <dynamics damping="1.0" friction="0.0"/>
  </joint>
  <link name="l_upper_arm">
    <inertial>
      <origin xyz="-0.006120999999999996 -0.00018899999999999473 0.02936839999999999" rpy="0 -1.30899700696774 -3.1415926535897922"/>
      <mass value="0.746799"/>
      <inertia ixx="0.000509731" ixy="-6.90767e-07" ixz="1.20048e-05" iyy="0.00067086" iyz="3.11833e-06" izz="0.000601202"/>
    </inertial>
    <visual>
      <origin xyz="-0.014999999999999994 0 -0.19329999999999997" rpy="0 -1.30899700696774 -3.1415926535897922"/>
      <geometry>
        <mesh filename="package://iCub/meshes/visual/sim_sea_2-5_l_elbow_prt-binary.obj" scale="0.001 0.001 0.001"/>
      </geometry>
      <material name="l_upper_arm_color">
        <color rgba="0.0 0.0 1.0 1"/>
      </material>
    </visual>
    <collision>
      <origin xyz="-0.014999999999999994 0 -0.19329999999999997" rpy="0 -1.30899700696774 -3.1415926535897922"/>
      <geometry>
        <mesh filename="package://iCub/meshes/visual/sim_sea_2-5_l_elbow_prt-binary.obj" scale="0.001 0.001 0.001"/>
      </geometry>
    </collision>
  </link>
  <joint name="l_arm_ft_sensor" type="fixed">
    <origin xyz="0.05093014324520106 0 0.029175829465900395" rpy="0 -1.3089970069677395 3.1415926535897927"/>
    <parent link="l_shoulder_3"/>
    <child link="l_upper_arm"/>
    <dynamics damping="0.1"/>
  </joint>
  <link name="l_elbow_1">
    <inertial>
      <origin xyz="0.006739129328428652 0.030301900000000007 -0.004657692361536201" rpy="0 0 0"/>
      <mass value="0.267903"/>
      <inertia ixx="0.01" ixy="-7.37159e-06" ixz="1.04505e-05" iyy="0.01" iyz="3.9319e-06" izz="0.01"/>
    </inertial>
    <visual>
      <origin xyz="-0.25939046331664584 0.03399989999999996 -0.08503258869619254" rpy="0 0 0"/>
      <geometry>
        <mesh filename="package://iCub/meshes/visual/sim_sea_2-5_l_elbow_prosup_prt-binary.obj" scale="0.001 0.001 0.001"/>
      </geometry>
      <material name="l_elbow_1_color">
        <color rgba="0.0 0.0 1.0 1"/>
      </material>
    </visual>
    <collision>
      <origin xyz="-0.25939046331664584 0.03399989999999996 -0.08503258869619254" rpy="0 0 0"/>
      <geometry>
        <mesh filename="package://iCub/meshes/visual/sim_sea_2-5_l_elbow_prosup_prt-binary.obj" scale="0.001 0.001 0.001"/>
      </geometry>
    </collision>
  </link>
  <joint name="l_elbow" type="revolute">
    <origin xyz="0 0.03399989999999997 0.07925999999999998" rpy="0 -1.3089970069677395 -3.141592653589793"/>
    <axis xyz="2.220446049250313e-16 -1.0000000000000002 0.0"/>
    <parent link="l_upper_arm"/>
    <child link="l_elbow_1"/>
    <limit effort="50000" lower="0.2617993877991494" upper="1.8500490071139892" velocity="50000"/>
    <dynamics damping="1.0" friction="0.0"/>
  </joint>
  <link name="l_forearm">
    <inertial>
      <origin xyz="0.040451182882303864 -0.000686000000000006 0.005323632143791272" rpy="0 0 0"/>
      <mass value="0.636185"/>
      <inertia ixx="0.000371447" ixy="4.34562e-06" ixz="-0.000105871" iyy="0.000674229" iyz="4.05222e-06" izz="0.000557115"/>
    </inertial>
    <visual>
      <origin xyz="-0.29688696737542175 0 -0.07955060152271212" rpy="0 0 0"/>
      <geometry>
        <mesh filename="package://iCub/meshes/visual/sim_sea_2-5_l_forearm_prt-binary.obj" scale="0.001 0.001 0.001"/>
      </geometry>
      <material name="l_forearm_color">
        <color rgba="0.0 0.0 1.0 1"/>
      </material>
    </visual>
    <collision>
      <origin xyz="-0.29688696737542175 0 -0.07955060152271212" rpy="0 0 0"/>
      <geometry>
        <mesh filename="package://iCub/meshes/visual/sim_sea_2-5_l_forearm_prt-binary.obj" scale="0.001 0.001 0.001"/>
      </geometry>
    </collision>
  </link>
  <joint name="l_wrist_prosup" type="revolute">
    <origin xyz="0.03846242990265739 0.03399990000000003 -0.0052231681940338075" rpy="0 0 0"/>
    <axis xyz="0.9659258438815126 2.220446049250313e-16 0.2588189794466167"/>
    <parent link="l_elbow_1"/>
    <child link="l_forearm"/>
    <limit effort="50000" lower="-1.0471975511965976" upper="1.0471975511965976" velocity="50000"/>
    <dynamics damping="1.0" friction="0.0"/>
  </joint>
  <link name="l_forearm_dh_frame">
    <inertial>
      <mass value="0"/>
      <inertia ixx="0.0" ixy="0.0" ixz="0.0" iyy="0.0" iyz="0.0" izz="0.0"/>
    </inertial>
  </link>
  <joint name="l_forearm_dh_frame_fixed_joint" type="fixed">
    <origin xyz="0.1028711023733811 7.000000000020878e-06 0.027564221311064674" rpy="2.879793333762637 0 1.5707963267948968"/>
    <parent link="l_forearm"/>
    <child link="l_forearm_dh_frame"/>
    <dynamics damping="0.1"/>
  </joint>
  <link name="l_wrist_1">
    <inertial>
      <origin xyz="-0.000981313804427647 -0.0011779999999999846 0.004083457739127433" rpy="0 0 0"/>
      <mass value="0.0362152"/>
      <inertia ixx="0.01" ixy="3.08362e-08" ixz="9.42153e-07" iyy="0.01" iyz="-1.58924e-07" izz="0.01"/>
    </inertial>
    <visual>
      <origin xyz="-0.4003145305546131 -7.0000000000763896e-06 -0.10503808226943155" rpy="0 0 0"/>
      <geometry>
        <mesh filename="package://iCub/meshes/visual/sim_sea_2-5_l_wrist_pitch_prt-binary.obj" scale="0.001 0.001 0.001"/>
      </geometry>
      <material name="l_wrist_1_color">
        <color rgba="0.9 0.9 0.9 1"/>
      </material>
    </visual>
    <collision>
      <origin xyz="-0.4003145305546131 -7.0000000000763896e-06 -0.10503808226943155" rpy="0 0 0"/>
      <geometry>
        <mesh filename="package://iCub/meshes/visual/sim_sea_2-5_l_wrist_pitch_prt-binary.obj" scale="0.001 0.001 0.001"/>
      </geometry>
    </collision>
  </link>
  <joint name="l_wrist_pitch" type="revolute">
    <origin xyz="0.10342756317919133 7.000000000020878e-06 0.025487480746719426" rpy="0 0 0"/>
    <axis xyz="0.2588189794466167 0.0 -0.9659258438815124"/>
    <parent link="l_forearm"/>
    <child link="l_wrist_1"/>
    <limit effort="50000" lower="-1.3962634015954636" upper="0.4363323129985824" velocity="50000"/>
    <dynamics damping="1.0" friction="0.0"/>
  </joint>
  <link name="l_hand">
    <inertial>
      <origin xyz="0.0647680204056704 0.005630400000000035 0.02266022084492256" rpy="0 0 0"/>
      <mass value="0.247806"/>
      <inertia ixx="0.01" ixy="2.96453e-06" ixz="-3.68906e-05" iyy="0.01" iyz="2.06885e-05" izz="0.01"/>
    </inertial>
    <visual>
      <origin xyz="-0.39968042405496884 0.019492899999999924 -0.10740460058694125" rpy="0 0 0"/>
      <geometry>
        <mesh filename="package://iCub/meshes/visual/sim_sea_2-5_l_hand_prt-binary.obj" scale="0.001 0.001 0.001"/>
      </geometry>
      <material name="l_hand_color">
        <color rgba="0.9 0.9 0.9 1"/>
      </material>
    </visual>
    <collision>
      <origin xyz="-0.39968042405496884 0.019492899999999924 -0.10740460058694125" rpy="0 0 0"/>
      <geometry>
        <mesh filename="package://iCub/meshes/visual/sim_sea_2-5_l_hand_prt-binary.obj" scale="0.001 0.001 0.001"/>
      </geometry>
    </collision>
  </link>
  <joint name="l_wrist_yaw" type="revolute">
    <origin xyz="-0.0006341064996442103 -0.0194999 0.0023665183175097023" rpy="0 0 0"/>
    <axis xyz="-2.220446049250313e-16 1.0000000000000002 0.0"/>
    <parent link="l_wrist_1"/>
    <child link="l_hand"/>
    <limit effort="50000" lower="-0.3490658503988659" upper="0.4363323129985824" velocity="50000"/>
    <dynamics damping="1.0" friction="0.0"/>
  </joint>
  <link name="l_hand_dh_frame">
    <inertial>
      <mass value="0"/>
      <inertia ixx="0.0" ixy="0.0" ixz="0.0" iyy="0.0" iyz="0.0" izz="0.0"/>
    </inertial>
  </link>
  <joint name="l_hand_dh_frame_fixed_joint" type="fixed">
    <origin xyz="0.05765429784284365 -0.005556799999999987 0.013693832308330513" rpy="-1.5707963267948963 -0.2617993198271562 0"/>
    <parent link="l_hand"/>
    <child link="l_hand_dh_frame"/>
    <dynamics damping="0.1"/>
  </joint>
  <link name="l_hip_1">
    <inertial>
      <origin xyz="-0.0005107999999999918 0.03809229999999998 -8.299999999999974e-05" rpy="1.5707963267948961 0 1.5707963267948961"/>
      <mass value="0.919725"/>
      <inertia ixx="0.000404539" ixy="1.18502e-06" ixz="-9.64514e-07" iyy="0.000573315" iyz="-1.06028e-06" izz="0.000578982"/>
    </inertial>
    <visual>
      <origin xyz="0.04285150000005946 -0.025999999999999673 0.15191299999998345" rpy="1.5707963267948961 0 1.5707963267948961"/>
      <geometry>
        <mesh filename="package://iCub/meshes/visual/sim_sea_2-5_l_hip_1_prt-binary.obj" scale="0.001 0.001 0.001"/>
      </geometry>
      <material name="l_hip_1_color">
        <color rgba="0.9 0.9 0.9 1"/>
      </material>
    </visual>
    <collision>
      <origin xyz="0.04285150000005946 -0.025999999999999673 0.15191299999998345" rpy="1.5707963267948961 0 1.5707963267948961"/>
      <geometry>
        <mesh filename="package://iCub/meshes/visual/sim_sea_2-5_l_hip_1_prt-binary.obj" scale="0.001 0.001 0.001"/>
      </geometry>
    </collision>
  </link>
  <joint name="l_hip_pitch" type="revolute">
    <origin xyz="0.006451499999999999 -0.026000000000000023 -0.11991299999999999" rpy="0 0 -3.141592653589793"/>
    <axis xyz="-2.220446049250313e-16 -0.9999999999999998 0.0"/>
    <parent link="root_link"/>
    <child link="l_hip_1"/>
    <limit effort="55.5" lower="-0.7853981633974483" upper="2.3387411976724017" velocity="5.1"/>
    <dynamics damping="1.0" friction="0.0"/>
  </joint>
  <link name="l_hip_2">
    <inertial>
      <origin xyz="-0.0011062999999999976 1.730000000001175e-05 -0.04457399999999995" rpy="1.5707963267948961 0 1.5707963267948961"/>
      <mass value="0.415987"/>
      <inertia ixx="0.000475741" ixy="2.89355e-07" ixz="-6.72876e-08" iyy="0.000279828" iyz="6.7417e-06" izz="0.000307828"/>
    </inertial>
    <visual>
      <origin xyz="0.04285149980932397 -0.07010000000000878 0.15191299999997981" rpy="1.5707963267948961 0 1.5707963267948961"/>
      <geometry>
        <mesh filename="package://iCub/meshes/visual/sim_sea_2-5_l_hip_2_prt-binary.obj" scale="0.001 0.001 0.001"/>
      </geometry>
      <material name="l_hip_2_color">
        <color rgba="0.9 0.9 0.9 1"/>
      </material>
    </visual>
    <collision>
      <origin xyz="0.04285149980932397 -0.07010000000000878 0.15191299999997981" rpy="1.5707963267948961 0 1.5707963267948961"/>
      <geometry>
        <mesh filename="package://iCub/meshes/visual/sim_sea_2-5_l_hip_2_prt-binary.obj" scale="0.001 0.001 0.001"/>
      </geometry>
    </collision>
  </link>
  <joint name="l_hip_roll" type="revolute">
    <origin xyz="0 0.044099999999999986 0" rpy="0 0 0"/>
    <axis xyz="0.9999999999999998 0.0 2.220446049250313e-16"/>
    <parent link="l_hip_1"/>
    <child link="l_hip_2"/>
    <limit effort="37.0" lower="-0.3490658503988659" upper="2.0943951023931953" velocity="7.64"/>
    <dynamics damping="1.0" friction="0.0"/>
  </joint>
  <link name="l_hip_3">
    <inertial>
      <origin xyz="-0.00012290000000000217 -0.0002822999999999992 0.008718000000000031" rpy="-1.5707963267948961 0 -1.5707963267948961"/>
      <mass value="0.126212"/>
      <inertia ixx="0.01" ixy="2.67901e-07" ixz="-4.41463e-09" iyy="0.01" iyz="3.32338e-08" izz="0.01"/>
    </inertial>
    <visual>
      <origin xyz="0.04370906139999997 0.07010002460000003 -0.22621299999998065" rpy="-1.5707963267948961 0 -1.5707963267948961"/>
      <geometry>
        <mesh filename="package://iCub/meshes/visual/sim_sea_2-5_l_upper_thigh_prt-binary.obj" scale="0.001 0.001 0.001"/>
      </geometry>
      <material name="l_hip_3_color">
        <color rgba="0.0 0.0 1.0 1"/>
      </material>
    </visual>
    <collision>
      <origin xyz="0.04370906139999997 0.07010002460000003 -0.22621299999998065" rpy="-1.5707963267948961 0 -1.5707963267948961"/>
      <geometry>
        <mesh filename="package://iCub/meshes/visual/sim_sea_2-5_l_upper_thigh_prt-binary.obj" scale="0.001 0.001 0.001"/>
      </geometry>
    </collision>
  </link>
  <joint name="l_leg_ft_sensor" type="fixed">
    <origin xyz="-0.0008301999999999962 7.519999999999749e-05 -0.07429999999999995" rpy="3.141592653589793 0 0"/>
    <parent link="l_hip_2"/>
    <child link="l_hip_3"/>
    <dynamics damping="0.1"/>
  </joint>
  <link name="l_upper_leg">
    <inertial>
      <origin xyz="0.0033868999999999913 0.00010179999999998524 -0.07891600000000001" rpy="1.5707963267948961 0 1.5707963267948961"/>
      <mass value="1.8084"/>
      <inertia ixx="0.0064851267308372795" ixy="-0.00012421121423996344" ixz="-3.973994214790893e-06" iyy="0.0014625052983306384" iyz="-0.00013681806887964204" izz="0.006476192420462333"/>
    </inertial>
    <visual>
      <origin xyz="0.04370906139999997 -0.07010002459999994 0.24081299999999994" rpy="1.5707963267948961 0 1.5707963267948961"/>
      <geometry>
        <mesh filename="package://iCub/meshes/visual/sim_sea_2-5_l_thigh_prt-binary.obj" scale="0.001 0.001 0.001"/>
      </geometry>
      <material name="l_upper_leg_color">
        <color rgba="0.0 0.0 1.0 1"/>
      </material>
    </visual>
    <collision>
      <origin xyz="0.04370906139999997 -0.07010002459999994 0.24081299999999994" rpy="1.5707963267948961 0 1.5707963267948961"/>
      <geometry>
        <mesh filename="package://iCub/meshes/visual/sim_sea_2-5_l_thigh_prt-binary.obj" scale="0.001 0.001 0.001"/>
      </geometry>
    </collision>
  </link>
  <joint name="l_hip_yaw" type="revolute">
    <origin xyz="0 0 0.014399999999999996" rpy="-3.141592653589793 0 0"/>
    <axis xyz="0.0 2.220446049250313e-16 0.9999999999999998"/>
    <parent link="l_hip_3"/>
    <child link="l_upper_leg"/>
    <limit effort="37.0" lower="-1.3962634015954636" upper="1.3962634015954636" velocity="7.64"/>
    <dynamics damping="1.0" friction="0.0"/>
  </joint>
  <link name="l_upper_leg_back_contact">
    <inertial>
      <mass value="0"/>
      <inertia ixx="0.0" ixy="0.0" ixz="0.0" iyy="0.0" iyz="0.0" izz="0.0"/>
    </inertial>
  </link>
  <joint name="l_upper_leg_back_contact_fixed_joint" type="fixed">
    <origin xyz="-0.051256699999999995 0 0.014599999999999946" rpy="0 1.5707963267948963 0"/>
    <parent link="l_upper_leg"/>
    <child link="l_upper_leg_back_contact"/>
    <dynamics damping="0.1"/>
  </joint>
  <link name="l_upper_leg_dh_frame">
    <inertial>
      <mass value="0"/>
      <inertia ixx="0.0" ixy="0.0" ixz="0.0" iyy="0.0" iyz="0.0" izz="0.0"/>
    </inertial>
  </link>
  <joint name="l_upper_leg_dh_frame_fixed_joint" type="fixed">
    <origin xyz="0 0 -0.14582499999999995" rpy="1.5707963267948966 0 0"/>
    <parent link="l_upper_leg"/>
    <child link="l_upper_leg_dh_frame"/>
    <dynamics damping="0.1"/>
  </joint>
  <link name="l_lower_leg">
    <inertial>
      <origin xyz="0.0009997999999999951 0.0034968999999999695 -0.088567" rpy="1.5707963267948961 0 1.5707963267948961"/>
      <mass value="1.4724"/>
      <inertia ixx="0.0042369860649861665" ixy="-0.00023961518142281364" ixz="6.76166218238396e-05" iyy="0.0015222131363604985" iyz="-0.00023314283575035712" izz="0.004570071832070392"/>
    </inertial>
    <visual>
      <origin xyz="0.04370906139999997 -0.07010002479999991 0.38663799999999987" rpy="1.5707963267948961 0 1.5707963267948961"/>
      <geometry>
        <mesh filename="package://iCub/meshes/visual/sim_sea_2-5_l_shank_prt-binary.obj" scale="0.001 0.001 0.001"/>
      </geometry>
      <material name="l_lower_leg_color">
        <color rgba="0.0 0.0 1.0 1"/>
      </material>
    </visual>
    <collision>
      <origin xyz="0.04370906139999997 -0.07010002479999991 0.38663799999999987" rpy="1.5707963267948961 0 1.5707963267948961"/>
      <geometry>
        <mesh filename="package://iCub/meshes/visual/sim_sea_2-5_l_shank_prt-binary.obj" scale="0.001 0.001 0.001"/>
      </geometry>
    </collision>
  </link>
  <joint name="l_knee" type="revolute">
    <origin xyz="0 0 -0.14582499999999995" rpy="0 0 0"/>
    <axis xyz="-2.220446049250313e-16 -0.9999999999999998 0.0"/>
    <parent link="l_upper_leg"/>
    <child link="l_lower_leg"/>
    <limit effort="37.0" lower="-2.1642082724729685" upper="0.06981317007977318" velocity="7.64"/>
    <dynamics damping="1.0" friction="0.0"/>
  </joint>
  <link name="l_ankle_1">
    <inertial>
      <origin xyz="0.015153099999999989 0.0009020000000000139 4.199999999998649e-05" rpy="1.5707963267948961 0 1.5707963267948961"/>
      <mass value="0.6798"/>
      <inertia ixx="0.00040447429734460005" ixy="-1.1322603878053663e-06" ixz="3.046651057758992e-05" iyy="0.0004478873540695352" iyz="2.5726583414130826e-06" izz="0.0003076030453774591"/>
    </inertial>
    <visual>
      <origin xyz="0.04370906139999997 -0.07010002479999985 0.5871379999999998" rpy="1.5707963267948961 0 1.5707963267948961"/>
      <geometry>
        <mesh filename="package://iCub/meshes/visual/sim_sea_2-5_l_ankle_prt-binary.obj" scale="0.001 0.001 0.001"/>
      </geometry>
      <material name="l_ankle_1_color">
        <color rgba="0.9 0.9 0.9 1"/>
      </material>
    </visual>
    <collision>
      <origin xyz="0.04370906139999997 -0.07010002479999985 0.5871379999999998" rpy="1.5707963267948961 0 1.5707963267948961"/>
      <geometry>
        <mesh filename="package://iCub/meshes/visual/sim_sea_2-5_l_ankle_prt-binary.obj" scale="0.001 0.001 0.001"/>
      </geometry>
    </collision>
  </link>
  <joint name="l_ankle_pitch" type="revolute">
    <origin xyz="0 0 -0.20049999999999996" rpy="0 0 0"/>
    <axis xyz="2.220446049250313e-16 0.9999999999999998 0.0"/>
    <parent link="l_lower_leg"/>
    <child link="l_ankle_1"/>
    <limit effort="37.0" lower="-0.6108652381980153" upper="0.6108652381980153" velocity="7.64"/>
    <dynamics damping="1.0" friction="0.0"/>
  </joint>
  <link name="l_ankle_2">
    <inertial>
      <origin xyz="0.0011446999999999985 3.599999999992498e-06 -0.03852" rpy="1.5707963267948961 0 1.5707963267948961"/>
      <mass value="0.265122"/>
      <inertia ixx="0.01" ixy="-4.74606e-08" ixz="4.94571e-08" iyy="0.01" iyz="-4.29975e-06" izz="0.01"/>
    </inertial>
    <visual>
      <origin xyz="0.04368169961858297 -0.07017520019076885 0.5871379999999998" rpy="1.5707963267948961 0 1.5707963267948961"/>
      <geometry>
        <mesh filename="package://iCub/meshes/visual/sim_sea_2-5_l_foot_prt-binary.obj" scale="0.001 0.001 0.001"/>
      </geometry>
      <material name="l_ankle_2_color">
        <color rgba="0.9 0.9 0.9 1"/>
      </material>
    </visual>
    <collision>
      <origin xyz="0.04368169961858297 -0.07017520019076885 0.5871379999999998" rpy="1.5707963267948961 0 1.5707963267948961"/>
      <geometry>
        <mesh filename="package://iCub/meshes/visual/sim_sea_2-5_l_foot_prt-binary.obj" scale="0.001 0.001 0.001"/>
      </geometry>
    </collision>
  </link>
  <joint name="l_ankle_roll" type="revolute">
    <origin xyz="0 0 0" rpy="0 0 0"/>
    <axis xyz="0.9999999999999998 0.0 2.220446049250313e-16"/>
    <parent link="l_ankle_1"/>
    <child link="l_ankle_2"/>
    <limit effort="37.0" lower="-0.4363323129985824" upper="0.4363323129985824" velocity="7.64"/>
    <dynamics damping="1.0" friction="0.0"/>
  </joint>
  <link name="l_foot">
    <inertial>
      <origin xyz="0.03366689999999999 -0.005373499999999989 -0.0011639999999999429" rpy="-1.5707963267948961 0 -1.5707963267948961"/>
      <mass value="0.382968"/>
      <inertia ixx="0.00121242" ixy="-3.69533e-07" ixz="5.79273e-05" iyy="0.00141712" iyz="-7.64972e-06" izz="0.000273846"/>
    </inertial>
    <visual>
      <origin xyz="0.04720906119999997 0.07010002480000013 -0.6474380002860819" rpy="-1.5707963267948961 0 -1.5707963267948961"/>
      <geometry>
        <mesh filename="package://iCub/meshes/visual/sim_sea_2-5_l_sole_prt-binary.obj" scale="0.001 0.001 0.001"/>
      </geometry>
      <material name="l_foot_color">
        <color rgba="0.1 0.1 0.1 1"/>
      </material>
    </visual>
    <collision>
      <origin xyz="0.03 -0.005 0.014" rpy="0.0 0.0 0.0"/>
      <geometry>
        <mesh filename="package://iCub/meshes/visual/l_foot.obj" scale="1 1 1"/>
      </geometry>
    </collision>
  </link>
  <joint name="l_foot_ft_sensor" type="fixed">
    <origin xyz="-0.003500000000000003 0 -0.0605" rpy="3.141592653589793 0 0"/>
    <parent link="l_ankle_2"/>
    <child link="l_foot"/>
    <dynamics damping="0.1"/>
  </joint>
  <link name="l_sole">
    <inertial>
      <mass value="0"/>
      <inertia ixx="0.0" ixy="0.0" ixz="0.0" iyy="0.0" iyz="0.0" izz="0.0"/>
    </inertial>
  </link>
  <joint name="l_sole_fixed_joint" type="fixed">
    <origin xyz="0.003500000000000003 0 0.0040000000000000036" rpy="-3.141592653589793 0 0"/>
    <parent link="l_foot"/>
    <child link="l_sole"/>
    <dynamics damping="0.1"/>
  </joint>
  <link name="base_link">
    <inertial>
      <mass value="0"/>
      <inertia ixx="0.0" ixy="0.0" ixz="0.0" iyy="0.0" iyz="0.0" izz="0.0"/>
    </inertial>
  </link>
  <joint name="base_link_fixed_joint" type="fixed">
  <origin xyz="0 0 0" rpy="0 -0 0"/>
  <axis xyz="0 0 0"/>
  <parent link="root_link"/>
  <child link="base_link"/>
</joint>
  <link name="l_foot_dh_frame">
    <inertial>
      <mass value="0"/>
      <inertia ixx="0.0" ixy="0.0" ixz="0.0" iyy="0.0" iyz="0.0" izz="0.0"/>
    </inertial>
  </link>
  <joint name="l_foot_dh_frame_fixed_joint" type="fixed">
  <origin xyz="0.0 0 0.004" rpy="0 1.5708 0"/>
  <axis xyz="0 0 0"/>
  <parent link="l_foot"/>
  <child link="l_foot_dh_frame"/>
</joint>
  <link name="r_foot_dh_frame">
    <inertial>
      <mass value="0"/>
      <inertia ixx="0.0" ixy="0.0" ixz="0.0" iyy="0.0" iyz="0.0" izz="0.0"/>
    </inertial>
  </link>
  <joint name="r_foot_dh_frame_fixed_joint" type="fixed">
  <origin xyz="0.0 0 0.004" rpy="0 1.5708 0"/>
  <axis xyz="0 0 0"/>
  <parent link="r_foot"/>
  <child link="r_foot_dh_frame"/>
</joint>

</robot>
